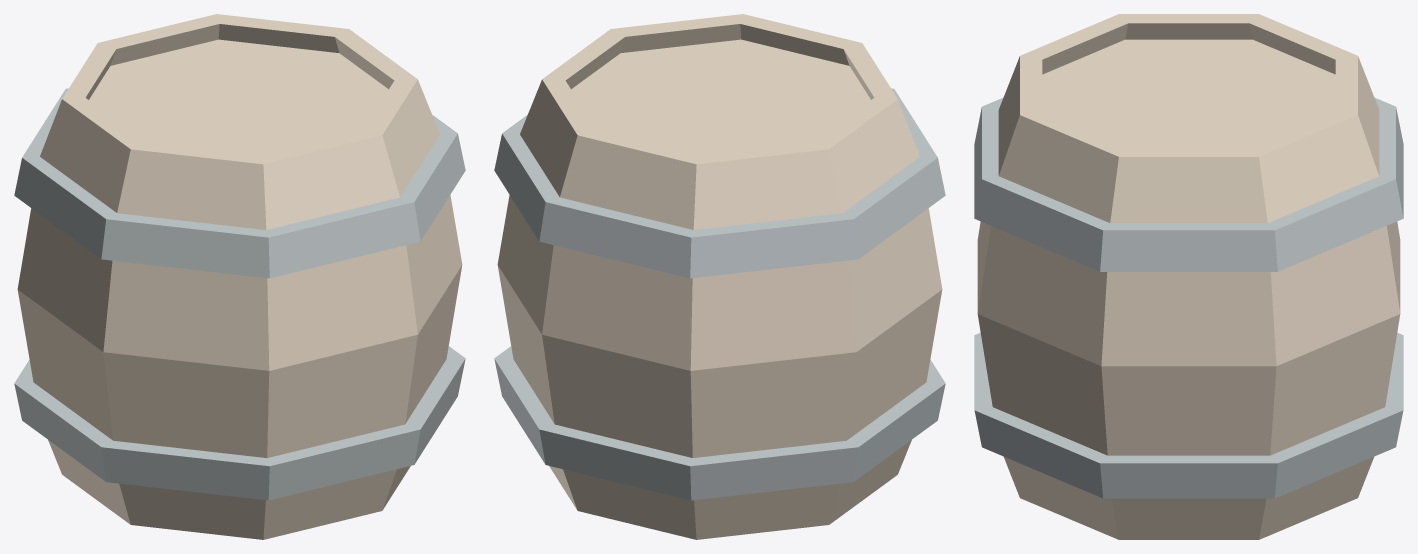
Rendered from barrel.glb.
3 renders of one model, left to right at view 1: azimuth 30°, elevation 25°; view 2: azimuth 150°, elevation 25°; view 3: azimuth 270°, elevation 25°, orthographic.
Parts seen in each view (by area): view 1: object1; view 2: object1; view 3: object1.
Boxes of the visible parts, left/top/right/bottom form: object1: left=14, top=14, right=465, bottom=539; object1: left=494, top=14, right=945, bottom=539; object1: left=974, top=14, right=1403, bottom=539.
Bounding box in the file's own units: 1.01 × 1 × 1.01.
